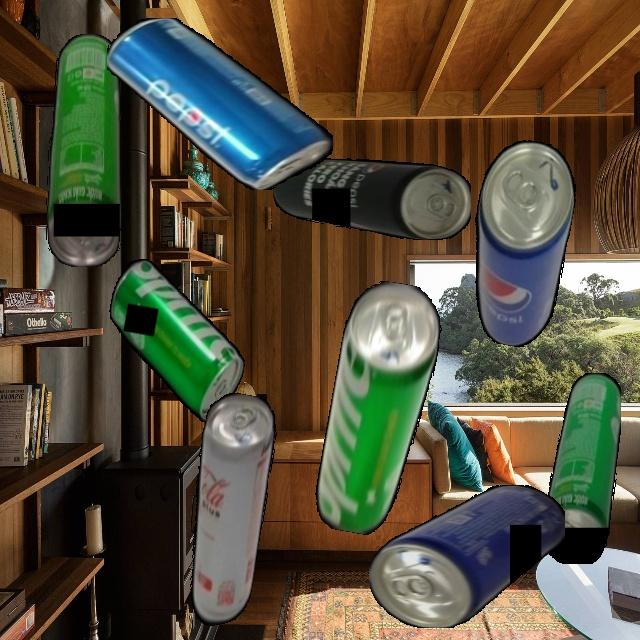debris: (107, 17, 333, 190), (310, 276, 448, 541), (94, 255, 259, 427), (369, 484, 565, 628), (455, 134, 584, 352), (170, 389, 284, 634), (45, 33, 121, 267), (272, 158, 471, 240), (542, 372, 621, 564)
